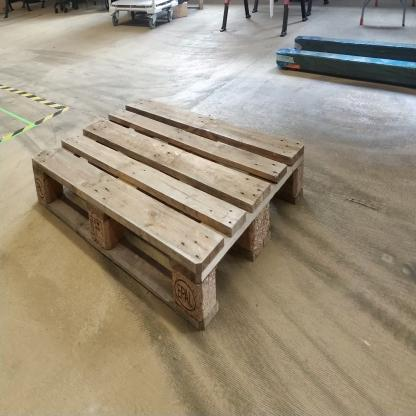BoxFace: (26, 83, 318, 345)
